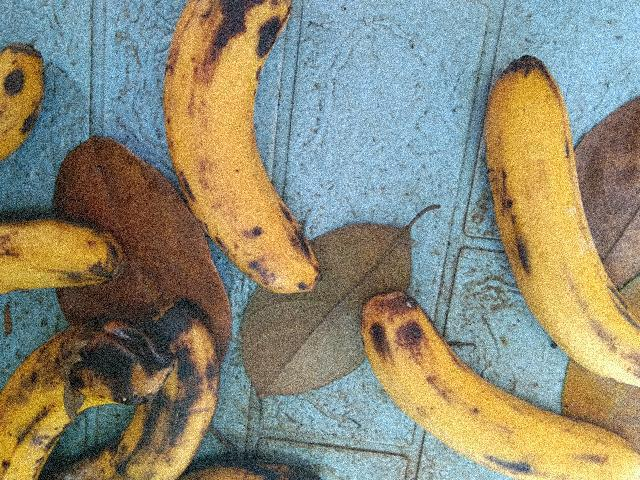overripe: (148, 0, 337, 301)
ripe: (479, 47, 639, 410), (354, 279, 633, 479)
rotten: (0, 318, 159, 479), (98, 288, 232, 479), (0, 196, 129, 316)
